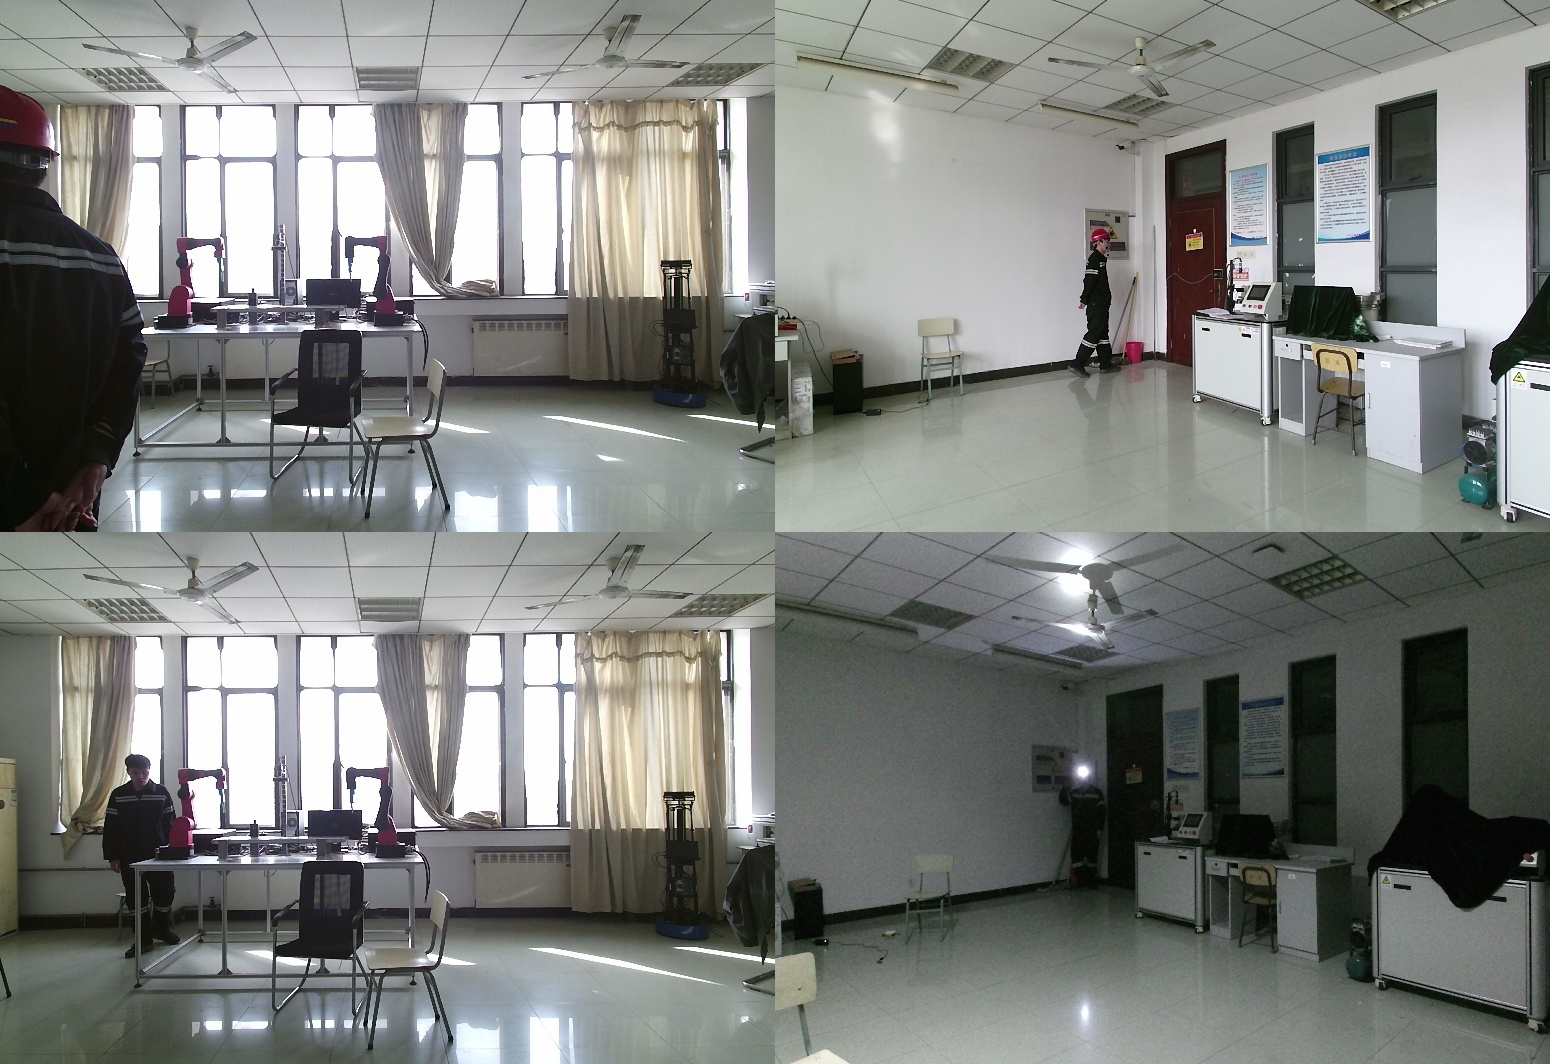person: (1, 87, 148, 532), (96, 754, 185, 957), (1071, 231, 1116, 382), (1057, 768, 1105, 890)
